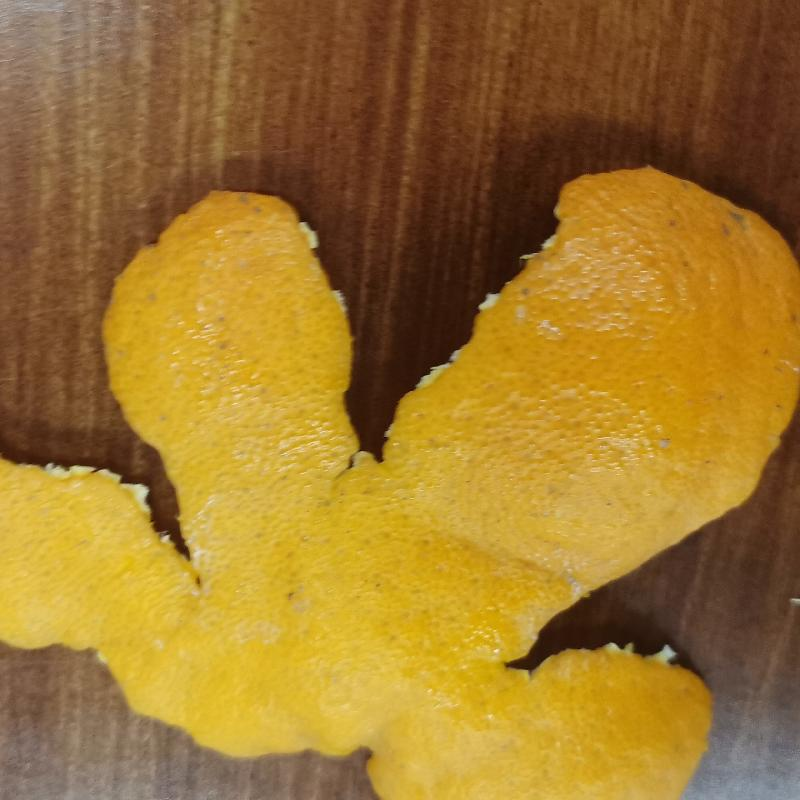orange: (7, 160, 799, 799)
